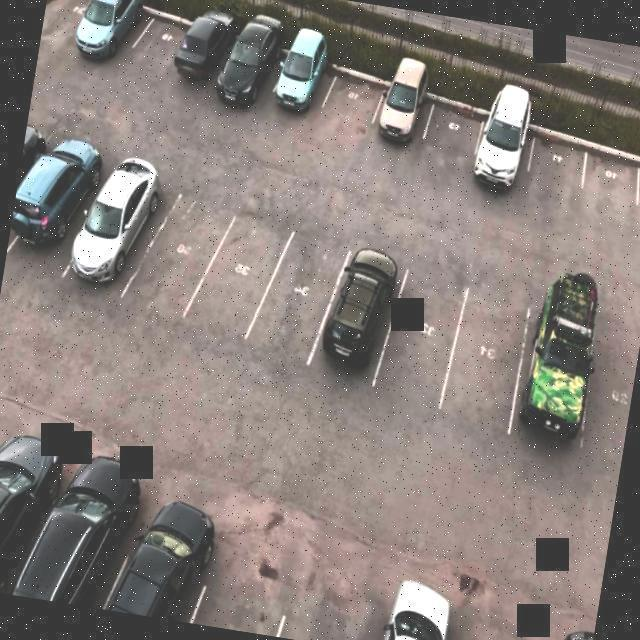space-empty: (125, 181, 239, 332), (179, 205, 294, 354), (428, 292, 541, 436), (245, 234, 355, 374), (367, 275, 473, 414), (572, 336, 640, 467), (184, 554, 288, 637), (313, 56, 394, 157), (416, 93, 495, 181), (121, 7, 201, 89), (266, 578, 365, 640), (518, 133, 595, 211), (578, 149, 640, 218), (38, 0, 101, 61), (623, 168, 640, 241)
space-occupied: (64, 163, 177, 323), (502, 302, 610, 465), (303, 239, 416, 389), (24, 483, 134, 612), (18, 141, 115, 284), (102, 519, 207, 624), (457, 105, 547, 211), (260, 31, 344, 136), (167, 4, 250, 109), (211, 22, 292, 127), (357, 68, 439, 166), (62, 0, 157, 83), (0, 456, 53, 598), (6, 135, 59, 268)
